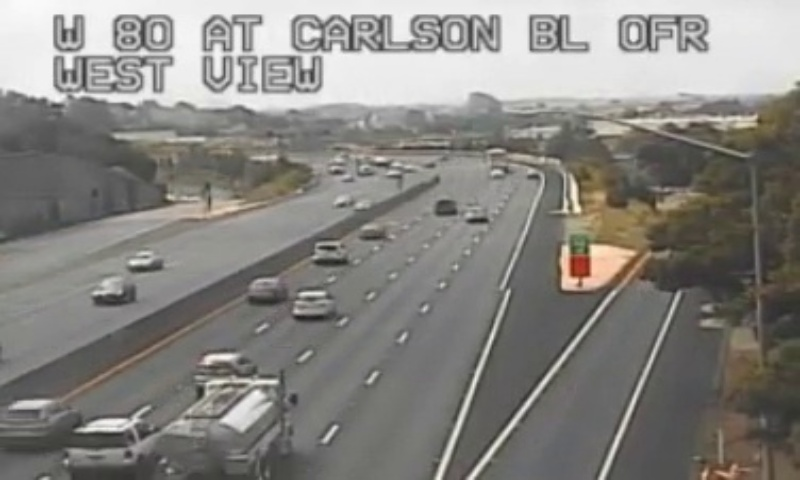car: (65, 416, 159, 476), (2, 398, 80, 447), (289, 290, 334, 319), (246, 276, 282, 304), (312, 240, 344, 265)
tank-truck: (159, 369, 289, 480)
